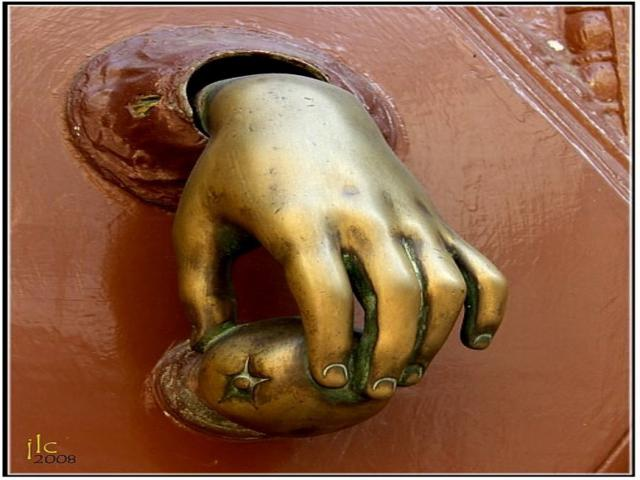Door-handle: (60, 22, 507, 442)
